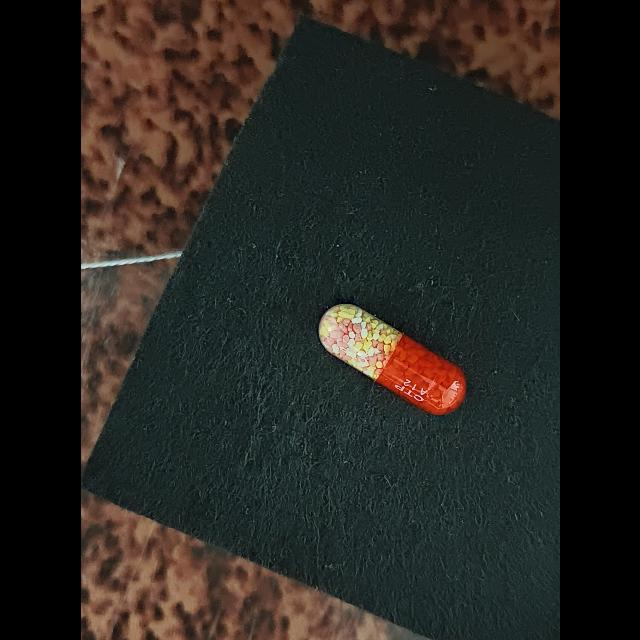Intact Capsule: (318, 304, 466, 415)
